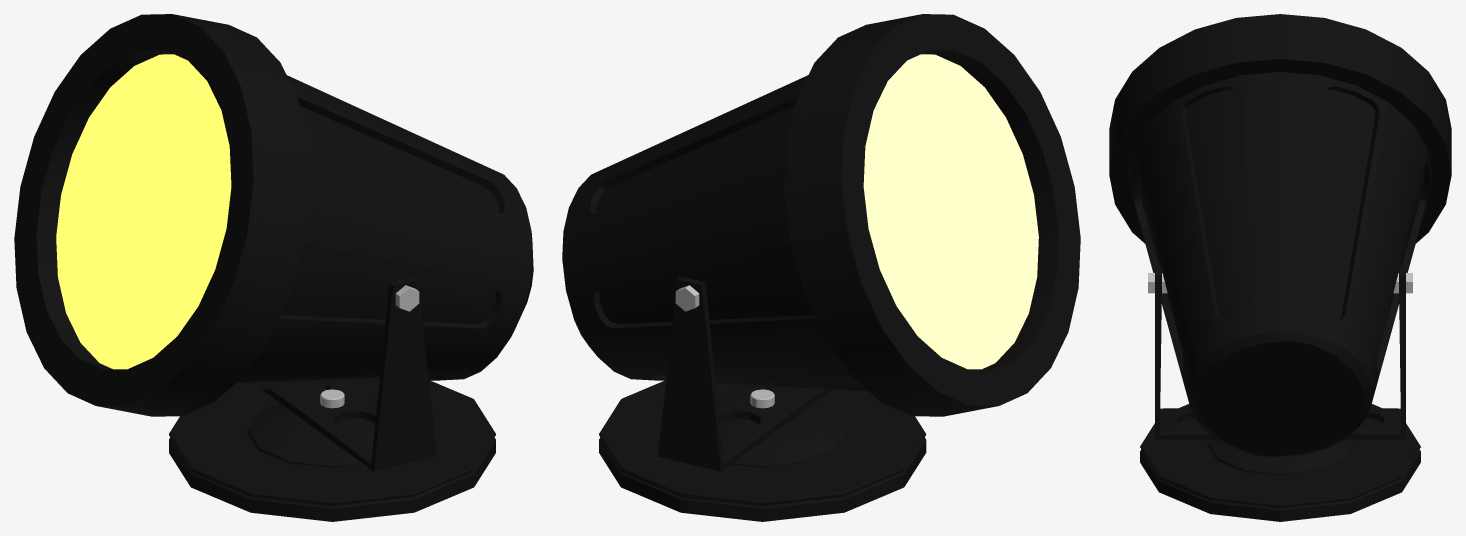
The model's file is Spotlight.fbx.
3 renders of one model, left to right at view 1: azimuth 30°, elevation 25°; view 2: azimuth 150°, elevation 25°; view 3: azimuth 270°, elevation 25°, orthographic. The views are drawn at different scales.
Visible parts, largest first — view 1: Circle.011; view 2: Circle.011; view 3: Circle.011.
Part boxes in pixels (bbox=[...]): Circle.011: bbox=[14, 14, 533, 521]; Circle.011: bbox=[562, 14, 1080, 521]; Circle.011: bbox=[1109, 14, 1451, 521].
Size of the model in its own units: 29.8 by 29.68 by 23.44.
